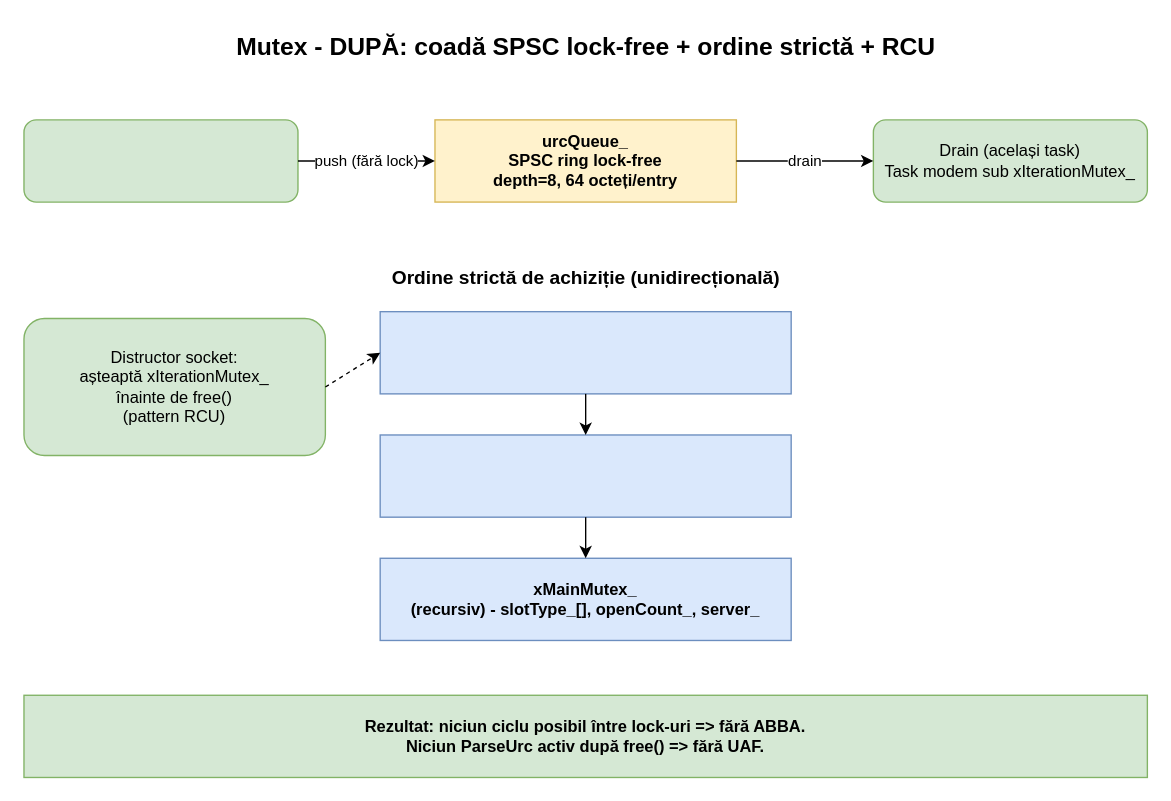
This 1171x801 diagram has some shape labels left out. Here are the shapes that lost their labels. From the top down, the centre of each, then its label:
[160,160]: Callback URC (Task COMM)
[585,352]: xIterationMutex_ (non-recursiv)
[585,475]: xSlotMutex_[i] (per-socket, non-recursiv)
